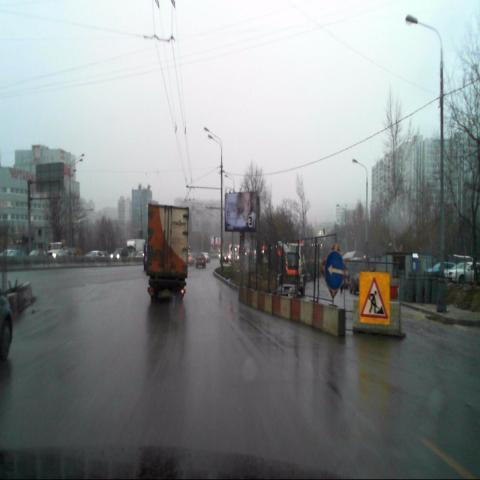4_1_2_2: (325, 251, 344, 290)
